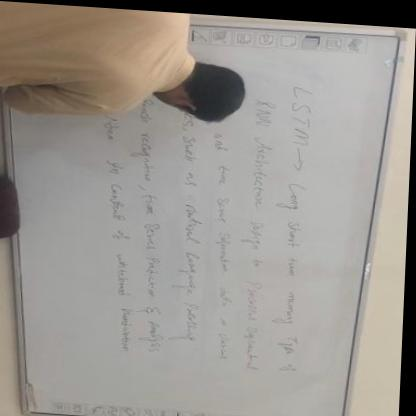Handwritten text: (270, 76, 327, 372), (132, 93, 181, 375), (238, 86, 284, 379), (97, 108, 143, 366), (204, 127, 239, 369), (176, 126, 207, 353)
Lecturer: (0, 4, 257, 134)
Whiteboard: (0, 18, 405, 416)
